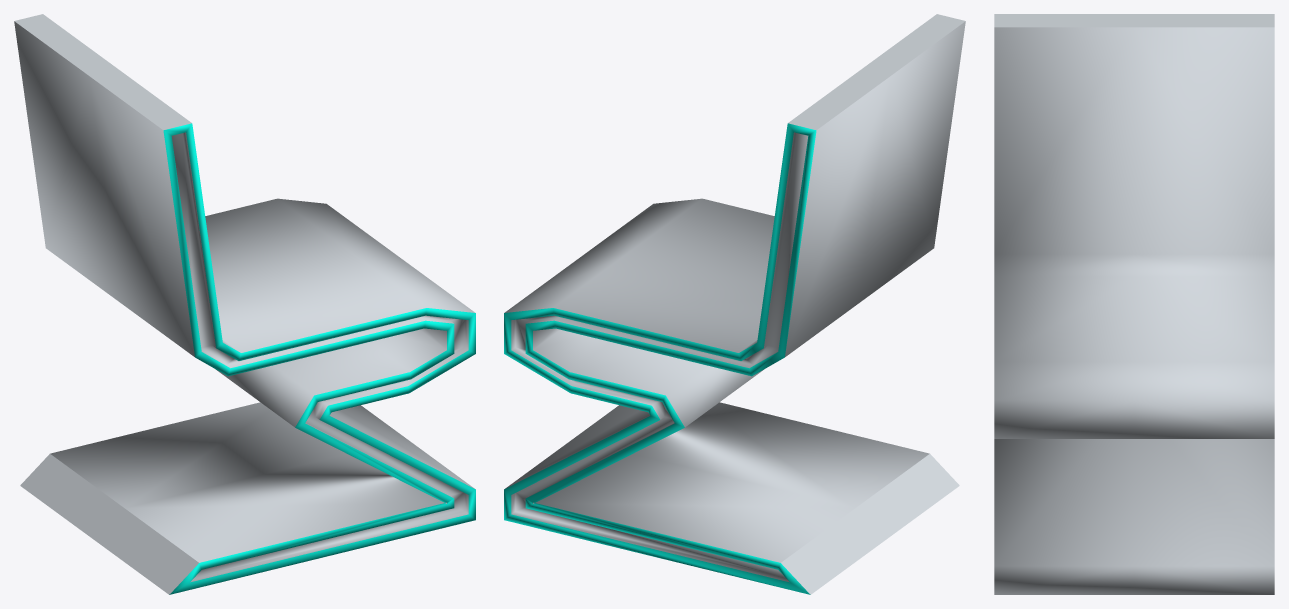
The model's file is chair-02.fbx.
3 views of the same model, side by side, from view 1: azimuth 30°, elevation 25°; view 2: azimuth 150°, elevation 25°; view 3: azimuth 270°, elevation 25° (orthographic). The views are drawn at different scales.
Visible parts, largest first — view 1: chair-02; view 2: chair-02; view 3: chair-02.
Boxes of the visible parts, bbox=[...] form: chair-02: bbox=[14, 14, 475, 594]; chair-02: bbox=[504, 14, 965, 594]; chair-02: bbox=[994, 14, 1274, 594].
Bounding box in the file's own units: 43.49 × 62 × 36.
